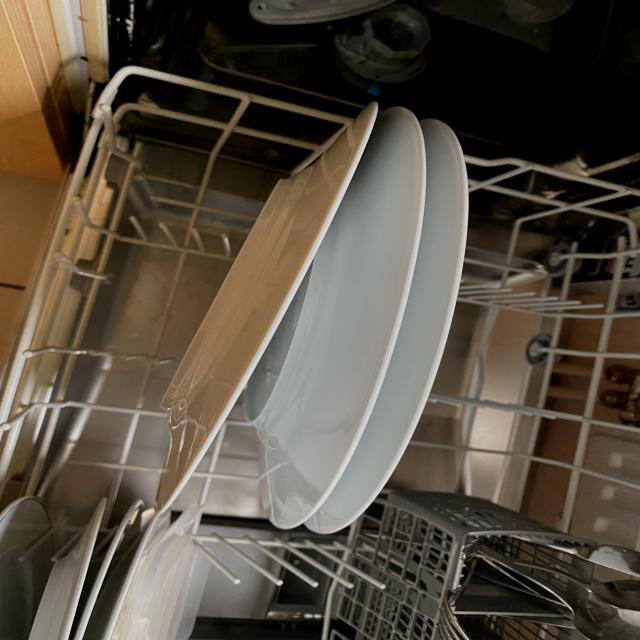clutery_bin: (427, 533, 623, 640)
empty_slot: (438, 203, 629, 511), (82, 136, 253, 322)
